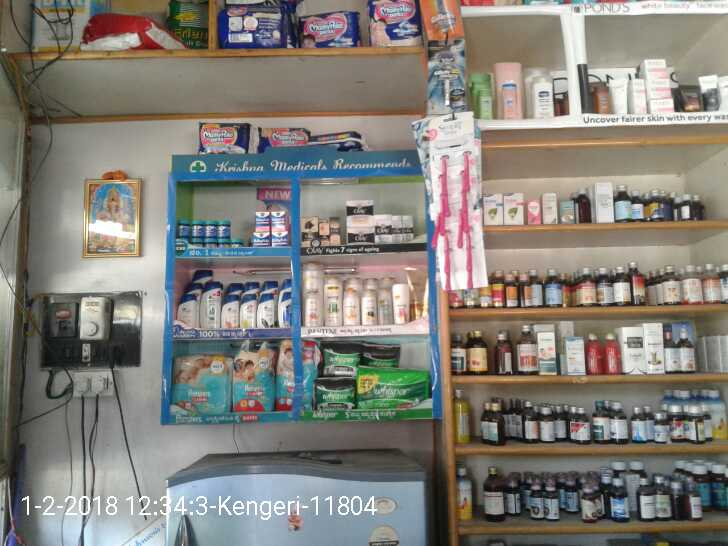beauty: (430, 49, 463, 109), (194, 273, 221, 330), (372, 211, 416, 243), (387, 280, 411, 326), (340, 195, 373, 228), (170, 294, 197, 331), (322, 276, 340, 328), (219, 294, 242, 328), (254, 290, 273, 328), (359, 281, 375, 326), (300, 211, 317, 251), (304, 286, 318, 332), (340, 287, 357, 323), (240, 292, 255, 327), (343, 230, 380, 244)
pharmacy: (164, 356, 234, 416), (353, 364, 433, 415), (273, 331, 313, 411), (228, 344, 271, 416), (323, 335, 354, 378), (316, 377, 349, 409), (249, 209, 268, 232), (266, 211, 287, 231), (187, 217, 202, 242), (270, 227, 287, 247), (219, 216, 233, 240), (254, 231, 268, 253), (173, 219, 188, 239), (202, 220, 216, 238)
